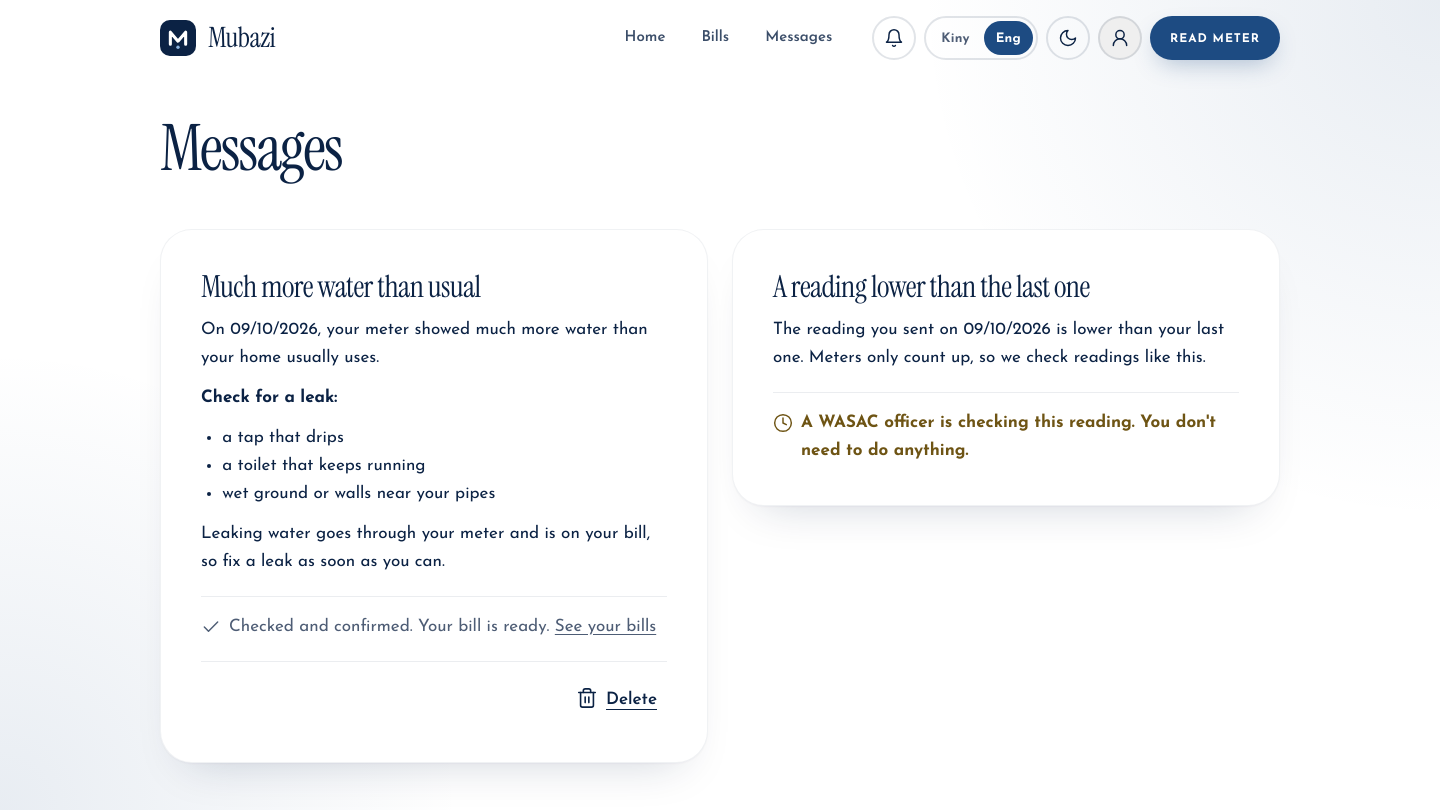
Test: Messages › when a finished message is deleted, should remove it; a reading still being checked has no Delete
What coordinates should you click on to do the following:
click the button "Delete"
I would click on:
 (616, 698)
Its box is left=566, top=674, right=667, bottom=722.
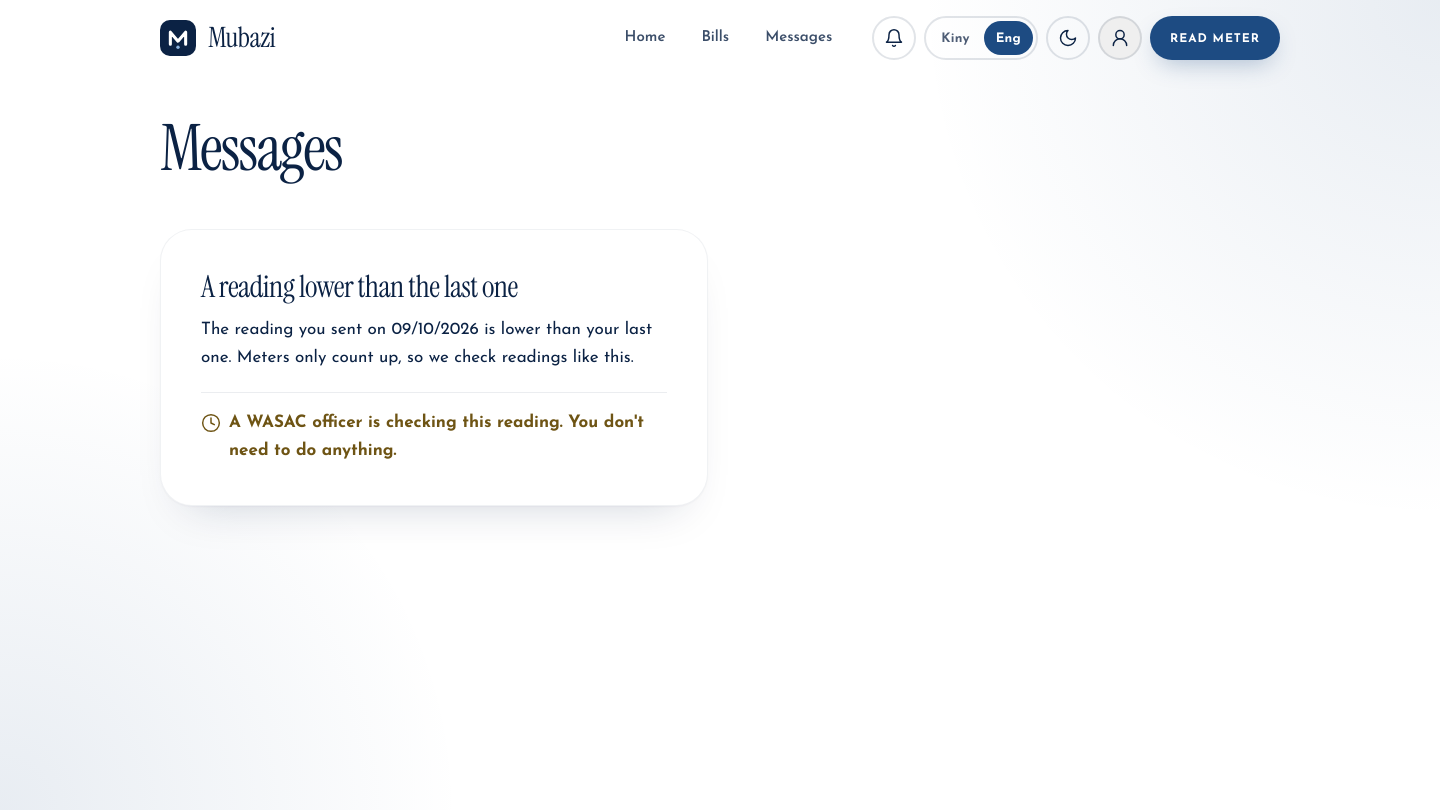
Now the heading "Much more water than usual" is gone
